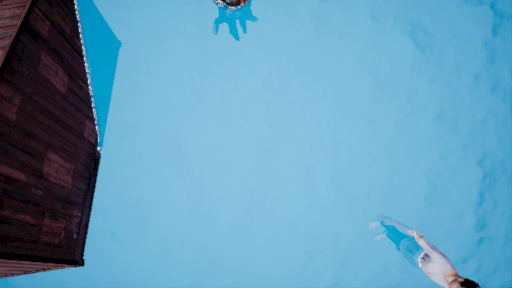person: (374, 218, 469, 288)
